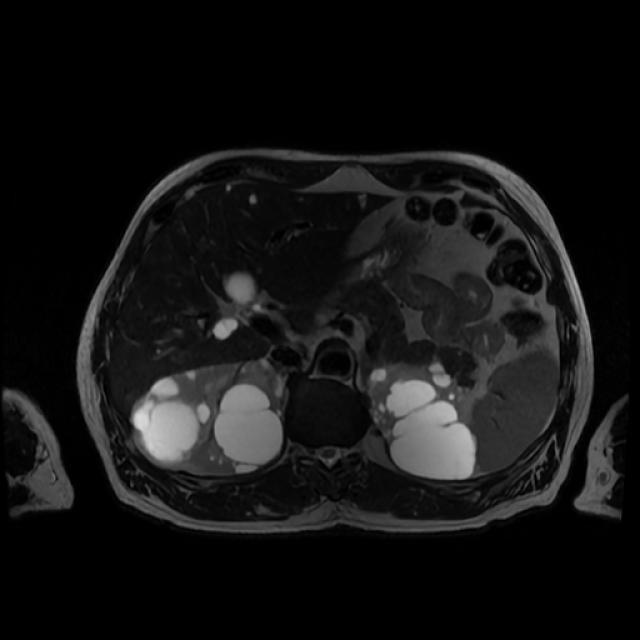sag: (133, 358, 287, 476)
sol: (370, 361, 476, 481)
